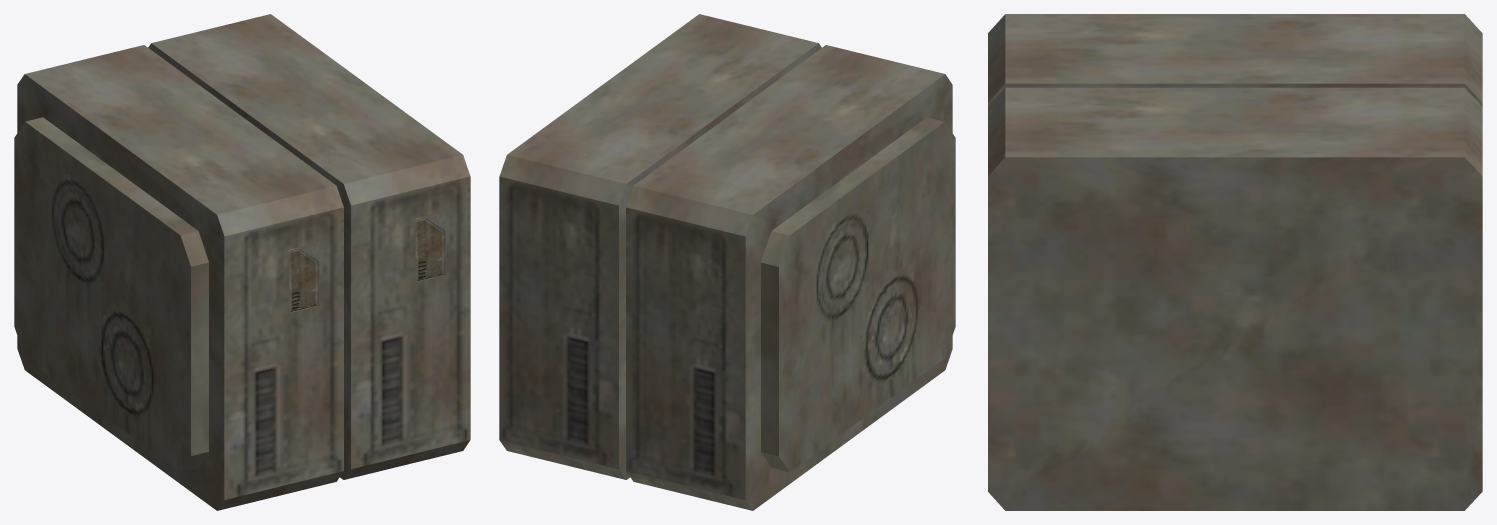
The model's file is thm_tato_debris_s07_l1.fbx.
3 views of the same model, side by side, from view 1: azimuth 30°, elevation 25°; view 2: azimuth 150°, elevation 25°; view 3: azimuth 270°, elevation 25° (orthographic). The views are drawn at different scales.
Visible parts, largest first — view 1: mesh_node; view 2: mesh_node; view 3: mesh_node.
Part boxes in pixels (x1,y1,x2,y2): mesh_node: (14,14,470,510); mesh_node: (499,14,955,510); mesh_node: (988,14,1482,510).
Size of the model in its own units: 0.657 by 0.7038 by 0.899.
Materials: 1 (1 with a texture image).
